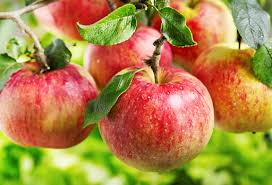apple: (99, 75, 216, 173), (4, 67, 95, 147), (198, 47, 272, 133), (83, 26, 177, 89), (154, 5, 243, 69), (36, 4, 119, 49)
